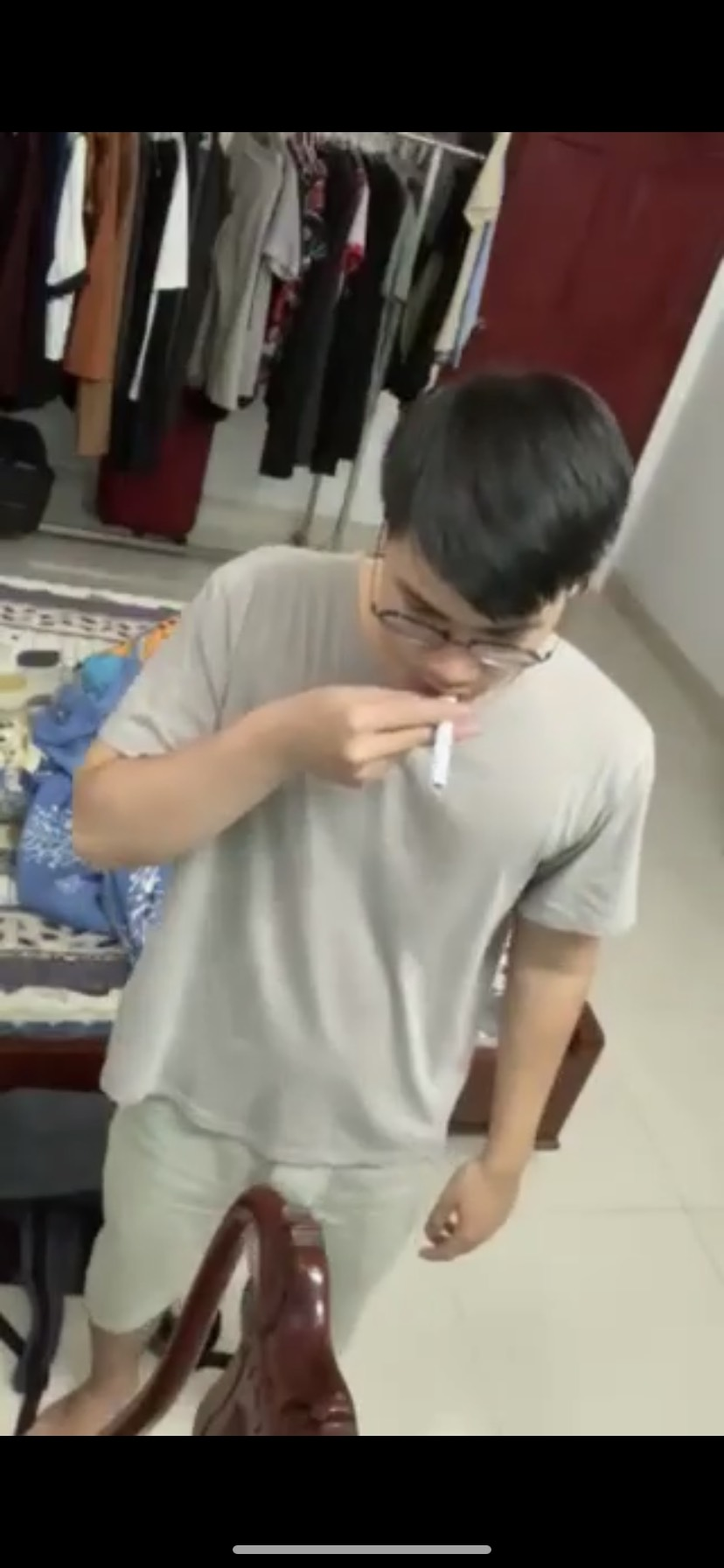cigarette: (417, 682, 469, 810)
person: (85, 349, 652, 1287)
